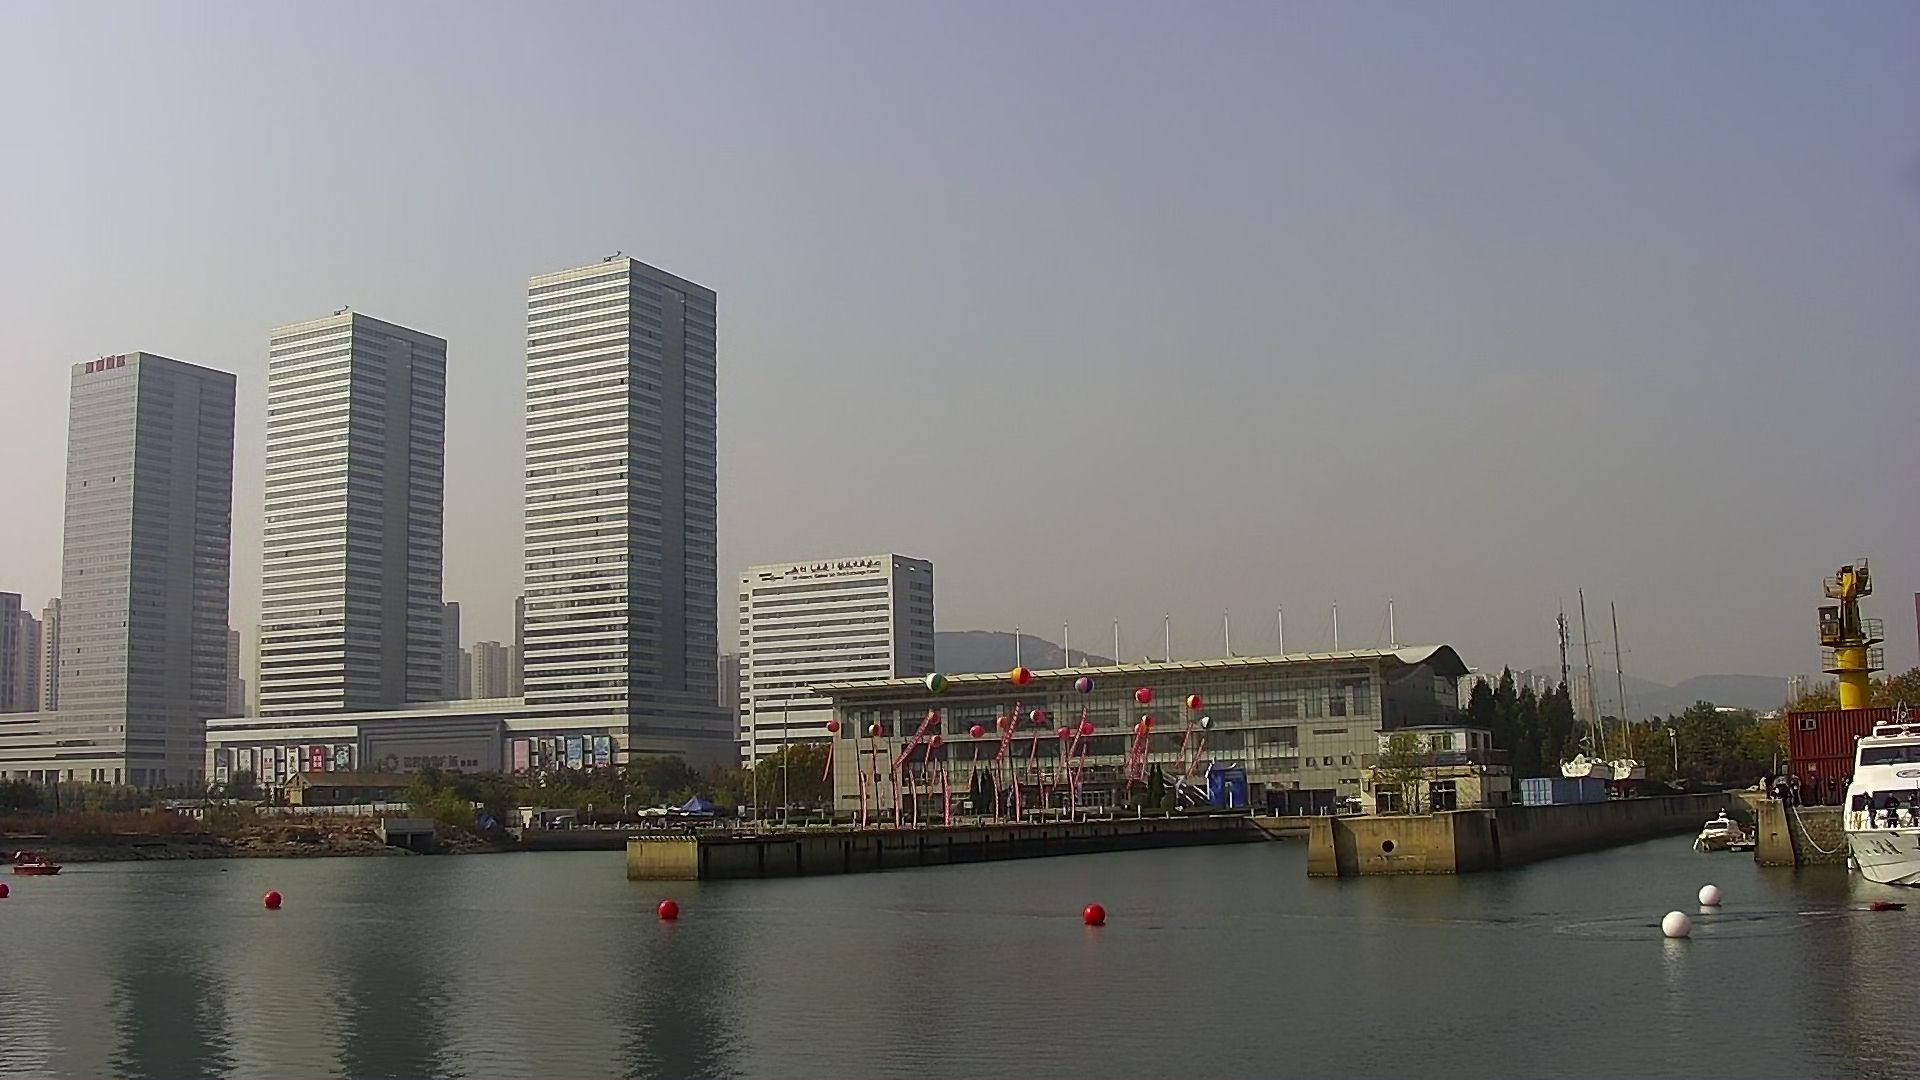ball: (1658, 909, 1695, 942), (1693, 882, 1725, 913), (1076, 902, 1112, 927), (657, 891, 683, 923), (262, 885, 282, 911)
ship: (1696, 803, 1749, 858)
